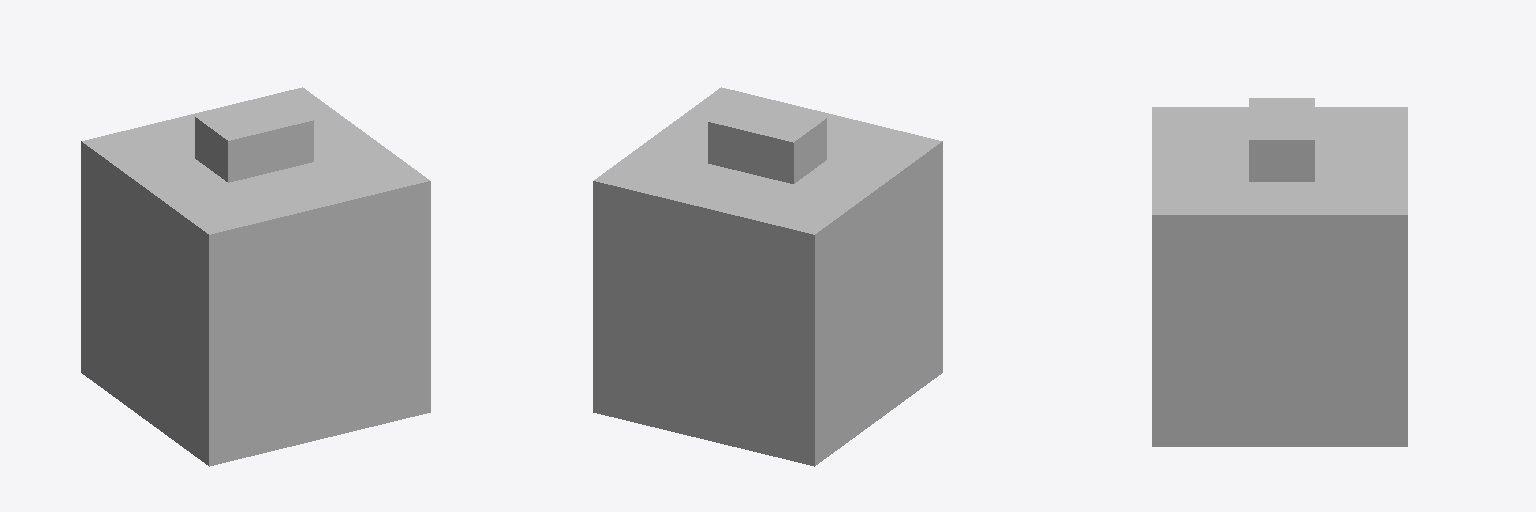
3 renders of one model, left to right at view 1: azimuth 30°, elevation 25°; view 2: azimuth 150°, elevation 25°; view 3: azimuth 270°, elevation 25°, orthographic.
Visible parts, largest first — view 1: CubeMain_Cube, CubeTop_Cube.001; view 2: CubeMain_Cube, CubeTop_Cube.001; view 3: CubeMain_Cube, CubeTop_Cube.001.
Boxes of the visible parts, box(x1,y1,x2,y2) form: CubeMain_Cube: box(81, 87, 430, 466); CubeTop_Cube.001: box(195, 96, 313, 182); CubeMain_Cube: box(593, 87, 942, 466); CubeTop_Cube.001: box(708, 98, 826, 183); CubeMain_Cube: box(1152, 107, 1407, 446); CubeTop_Cube.001: box(1249, 98, 1314, 181).
Bounding box in the file's own units: 2.34 × 2.76 × 2.34.